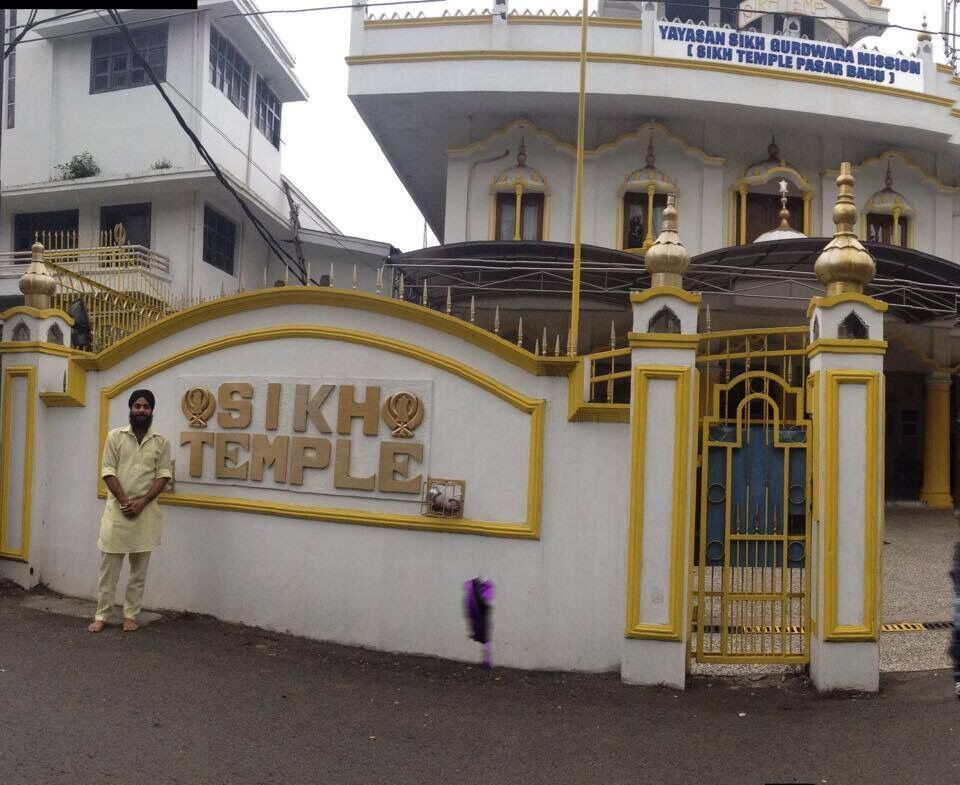Gurdwara: (68, 13, 952, 616)
